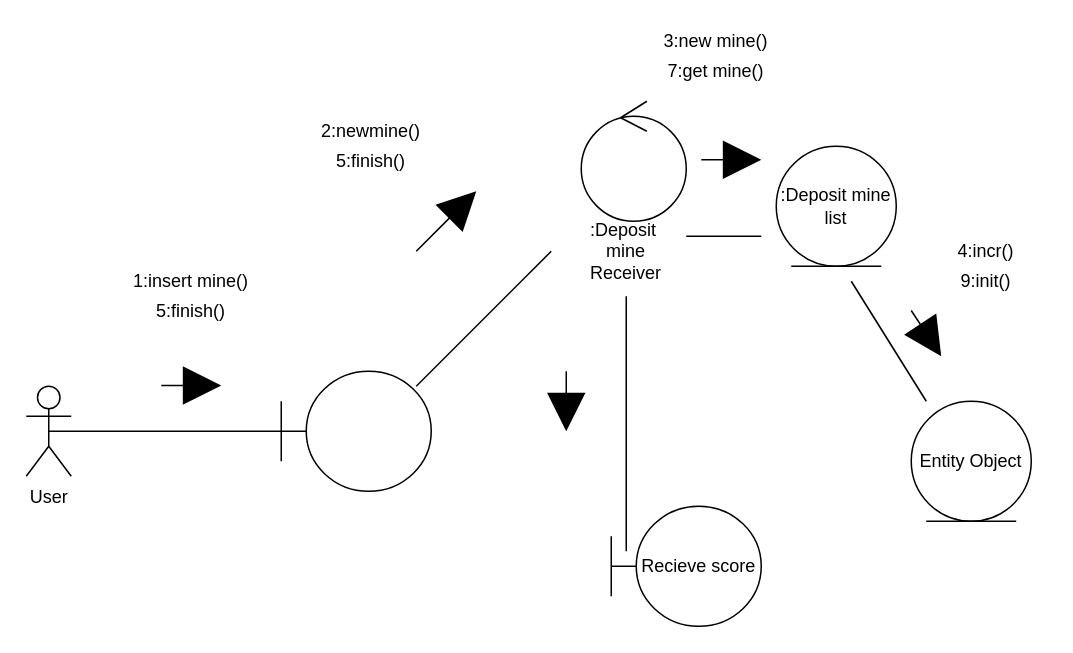
This 1073x653 diagram has some shape labels left out. The box of each missing label's shape, as (x1, y1, x2, y2) in pixels:
Control Object: (580, 100, 686, 221)
Customer Pannel: (280, 370, 431, 491)
